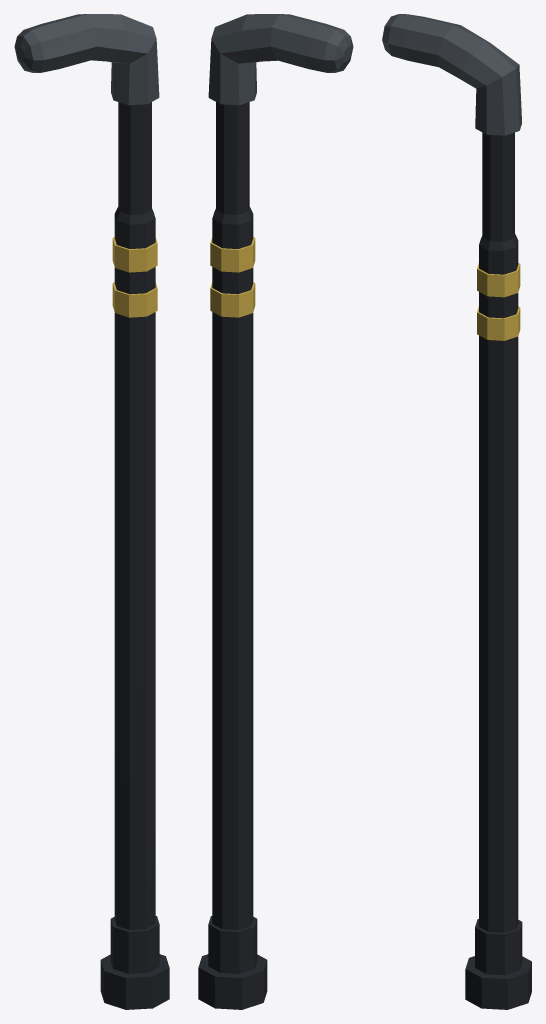
The model's file is caneSalesman.fbx.
The picture shows the model from 3 angles, left to right: view 1: azimuth 30°, elevation 25°; view 2: azimuth 150°, elevation 25°; view 3: azimuth 330°, elevation 25°; orthographic projection. The views are drawn at different scales.
Visible parts, largest first — view 1: Cylinder; view 2: Cylinder; view 3: Cylinder.
Part boxes in pixels (<box>): Cylinder: <box>14,14,169,1009</box>; Cylinder: <box>198,14,353,1009</box>; Cylinder: <box>382,14,531,1009</box>.
Bounding box in the file's own units: 0.1285 × 0.8376 × 0.0544.
Materials: 1 (1 with a texture image).
